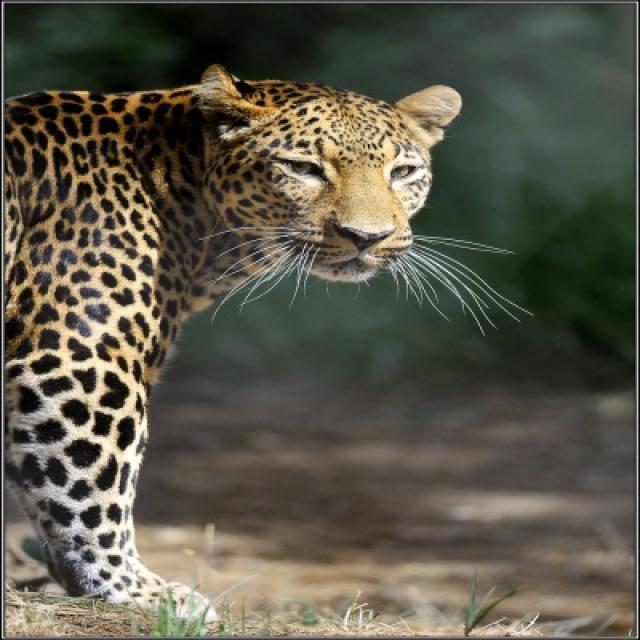Jaguar: (0, 66, 477, 616)
